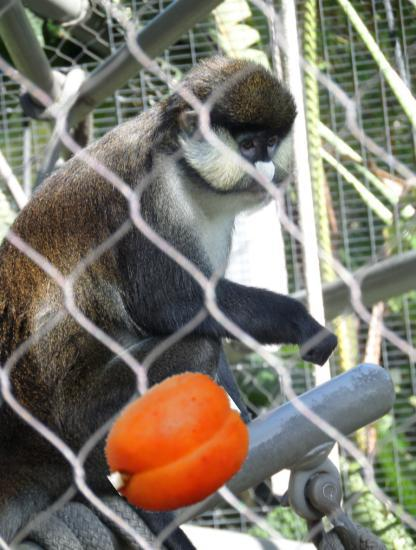Apricot: (101, 372, 249, 520)
